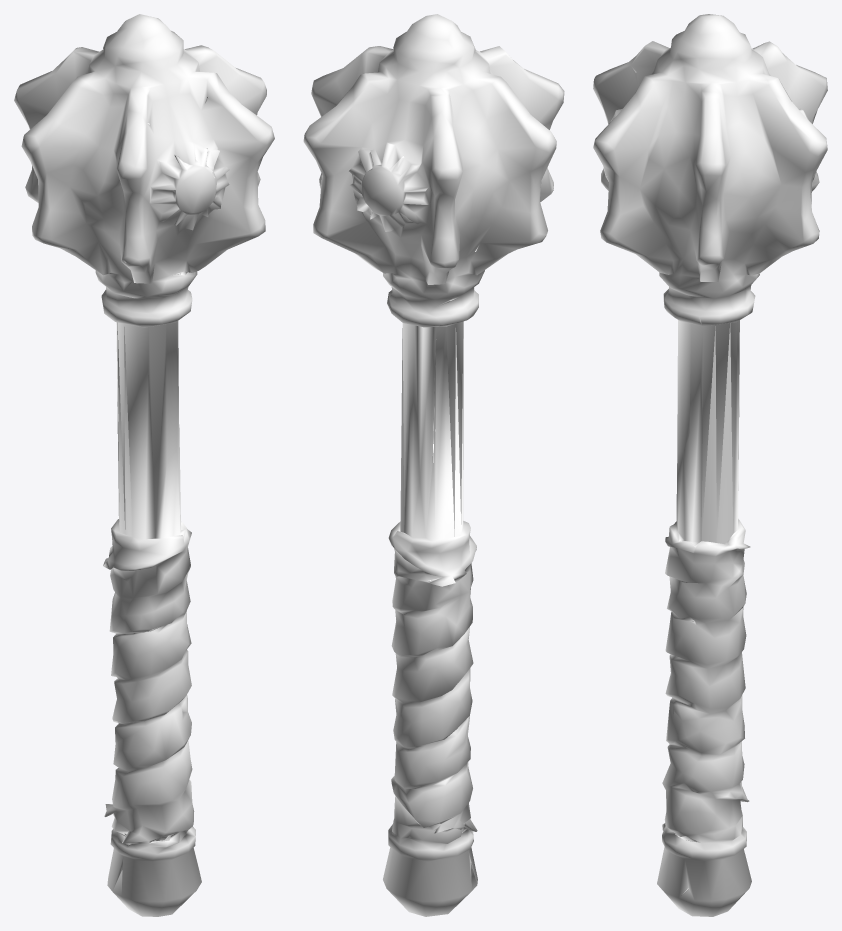
File: mace_sun.glb
The picture shows the model from 3 angles, left to right: view 1: azimuth 30°, elevation 25°; view 2: azimuth 150°, elevation 25°; view 3: azimuth 270°, elevation 25°; orthographic projection.
Parts seen in each view (by area): view 1: mace_sun; view 2: mace_sun; view 3: mace_sun.
Part boxes in pixels (box(x1,y1,x2,y2)): mace_sun: box(14, 14, 274, 916); mace_sun: box(303, 14, 564, 916); mace_sun: box(593, 14, 827, 916).
Size of the model in its own units: 0.1684 by 0.6 by 0.1439.
1 material, 1 textured.
